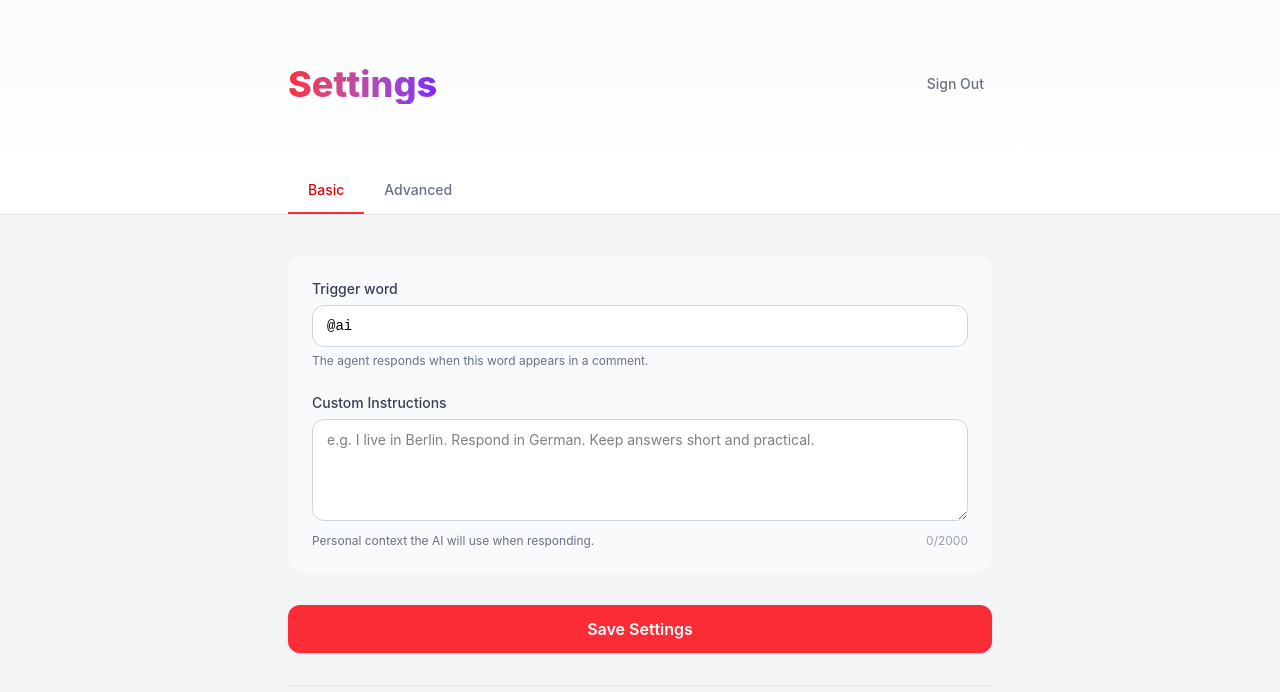
Settings: Reset AI Settings button › shows Reset AI Settings when local AI fields have values
Check: the heading "Settings" is shown, box top-left (288, 64), bottom-right (437, 104)
Step 1. Click the tab "Advanced" → (418,191), box top-left (364, 168), bottom-right (472, 214)
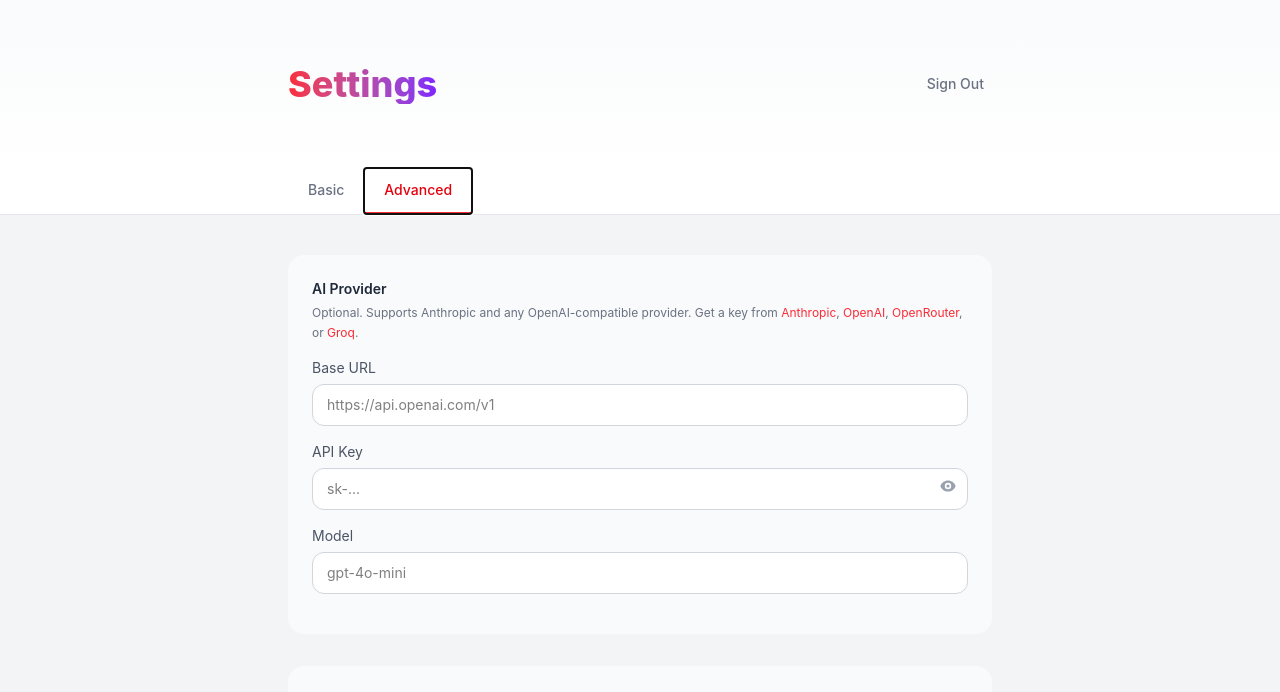
Step 2. Type "https://example.com" into the field labelled "Base URL" → (640,405), box top-left (312, 384), bottom-right (968, 426)
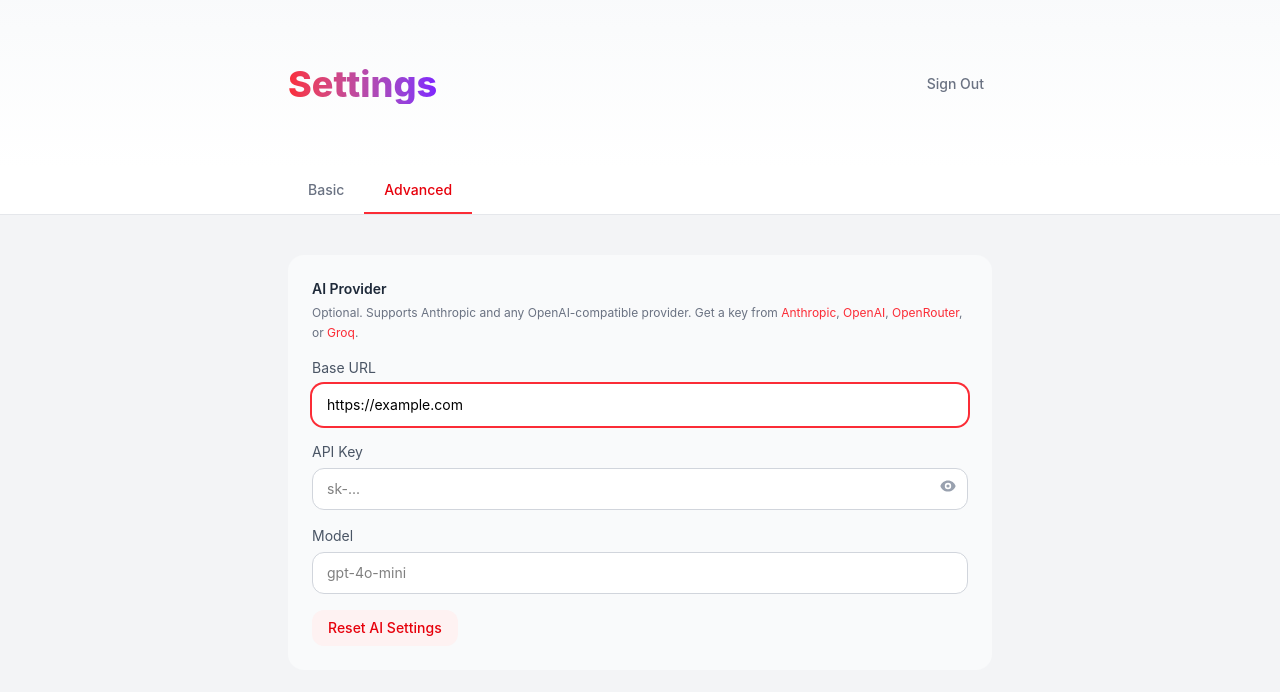
Check: the button "Reset AI Settings" is shown, box top-left (312, 610), bottom-right (458, 646)
